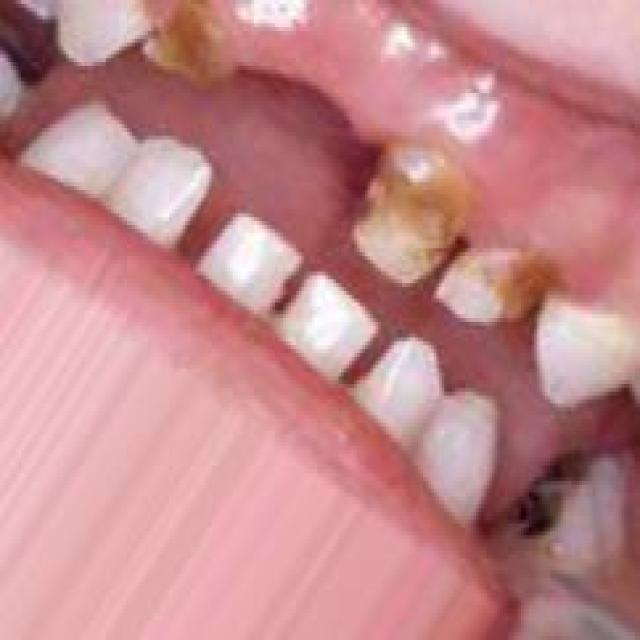caries: (353, 140, 468, 290), (438, 230, 557, 345), (497, 453, 595, 558), (140, 0, 238, 97)
